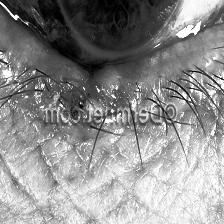Potentially Malignant Skin Tumors: (40, 83, 90, 132)
